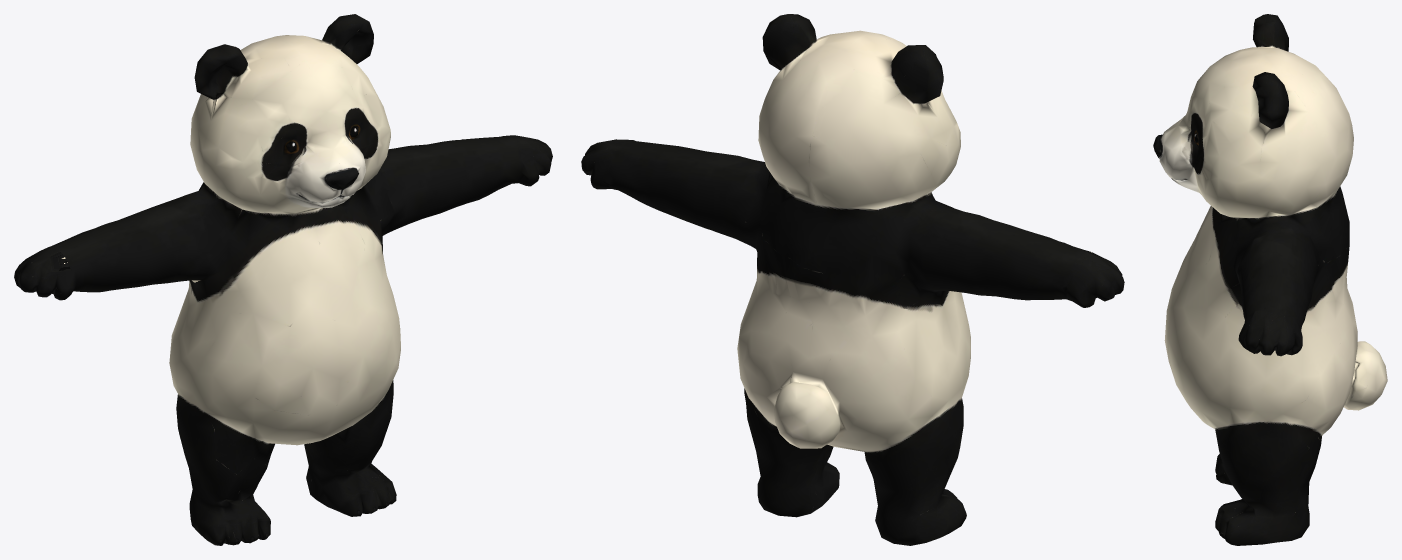
The model's file is panda-edge.glb.
3 renders of one model, left to right at view 1: azimuth 30°, elevation 25°; view 2: azimuth 150°, elevation 25°; view 3: azimuth 270°, elevation 25°, orthographic. The views are drawn at different scales.
Parts seen in each view (by area): view 1: panda; view 2: panda; view 3: panda.
Boxes of the visible parts, x1,y1,x2,y2 form: panda: [14, 14, 552, 545]; panda: [581, 14, 1124, 545]; panda: [1153, 14, 1387, 545].
Bounding box in the file's own units: 1.95 × 1.7 × 0.7817.
1 material, 1 textured.
